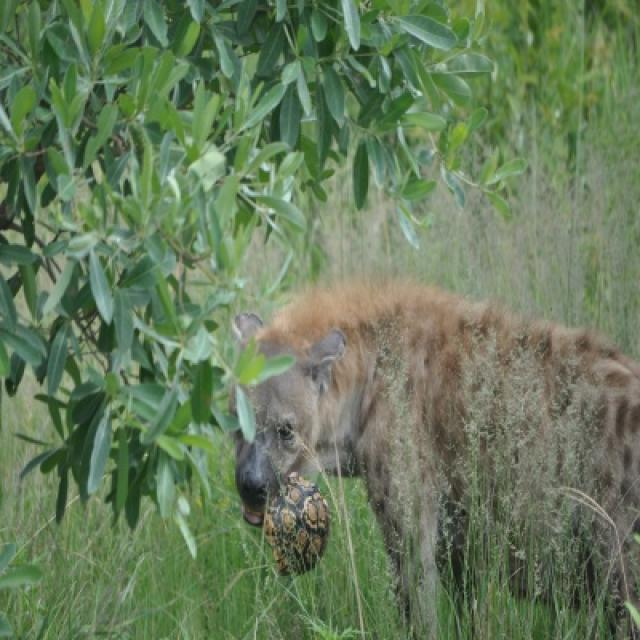hyena: (234, 282, 638, 638)
